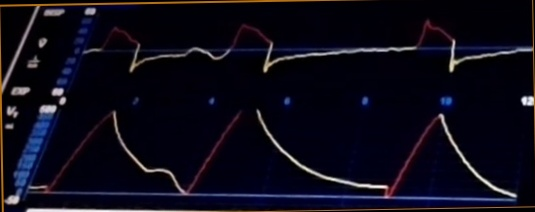Ineffective_effort Flow: (86, 17, 531, 82)
Ineffective_effort Volume: (33, 109, 517, 200)
